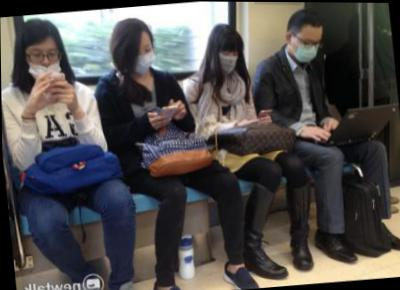OK: (293, 31, 325, 63), (128, 39, 155, 76), (215, 46, 240, 76)
WRONG: (27, 43, 63, 83)
